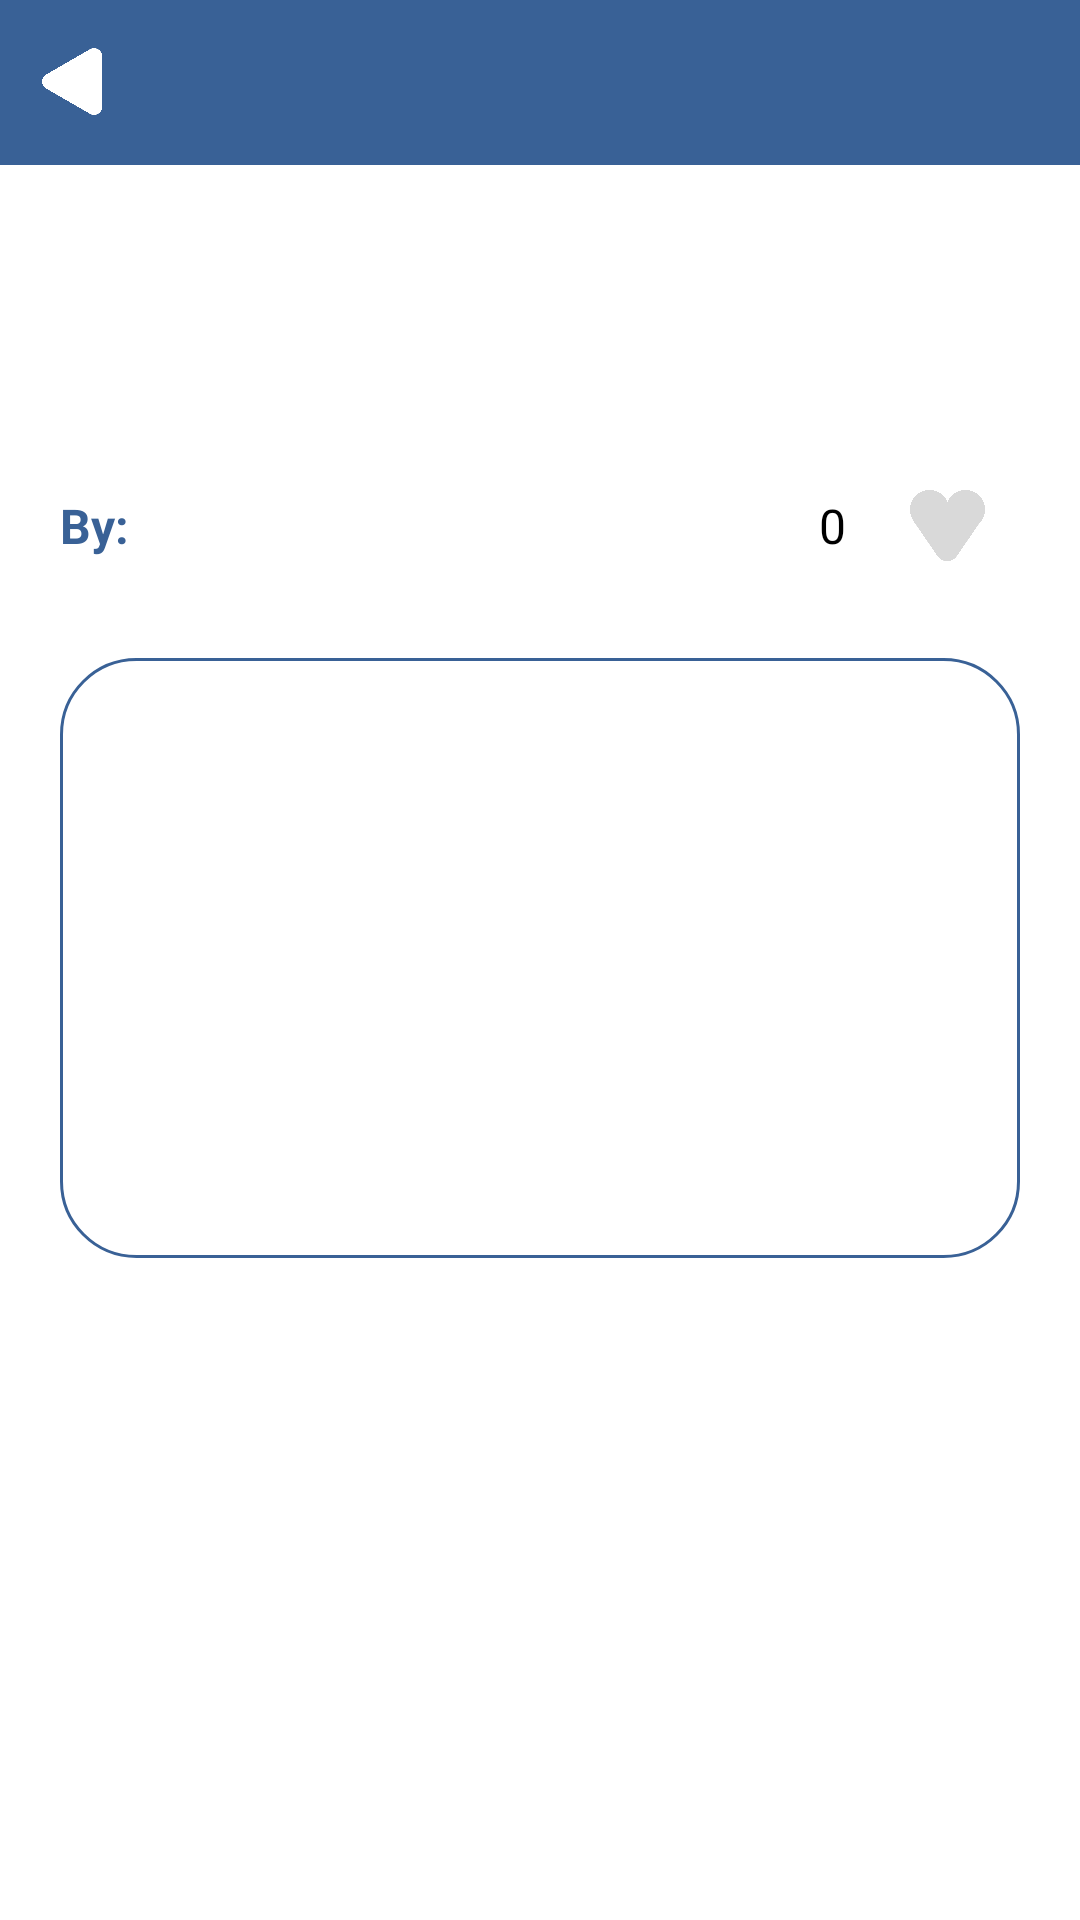

Icon bounding boxes for this 1080 × 1920 phone screenshot, format (x1, y1, x2, y2):
back button: (42, 48, 102, 115)
heart button: (910, 490, 985, 561)
